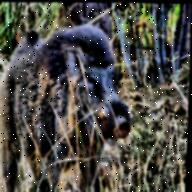boar: (0, 22, 140, 187)
